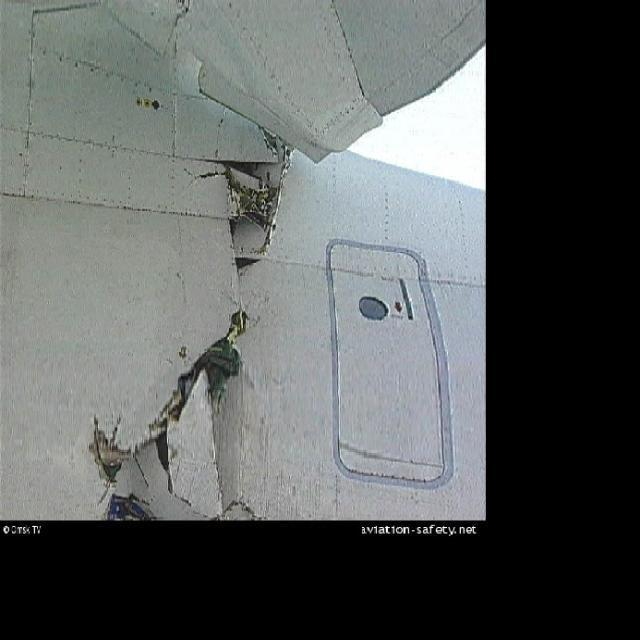crack: (81, 302, 257, 508), (148, 308, 248, 474), (228, 164, 280, 245), (89, 420, 131, 484), (109, 494, 148, 520), (260, 127, 285, 159)
dent: (65, 0, 325, 163)
